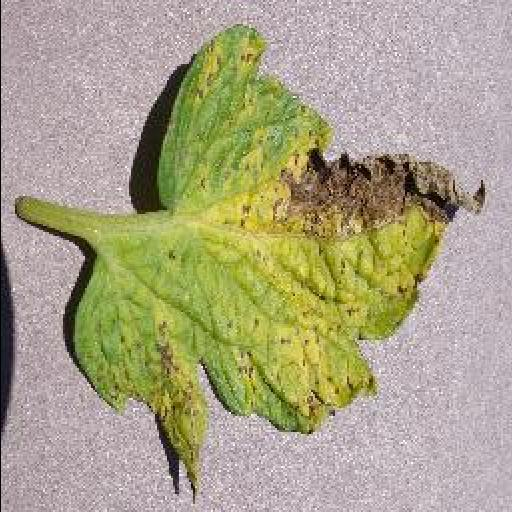disease_tomato: (70, 28, 488, 502)
